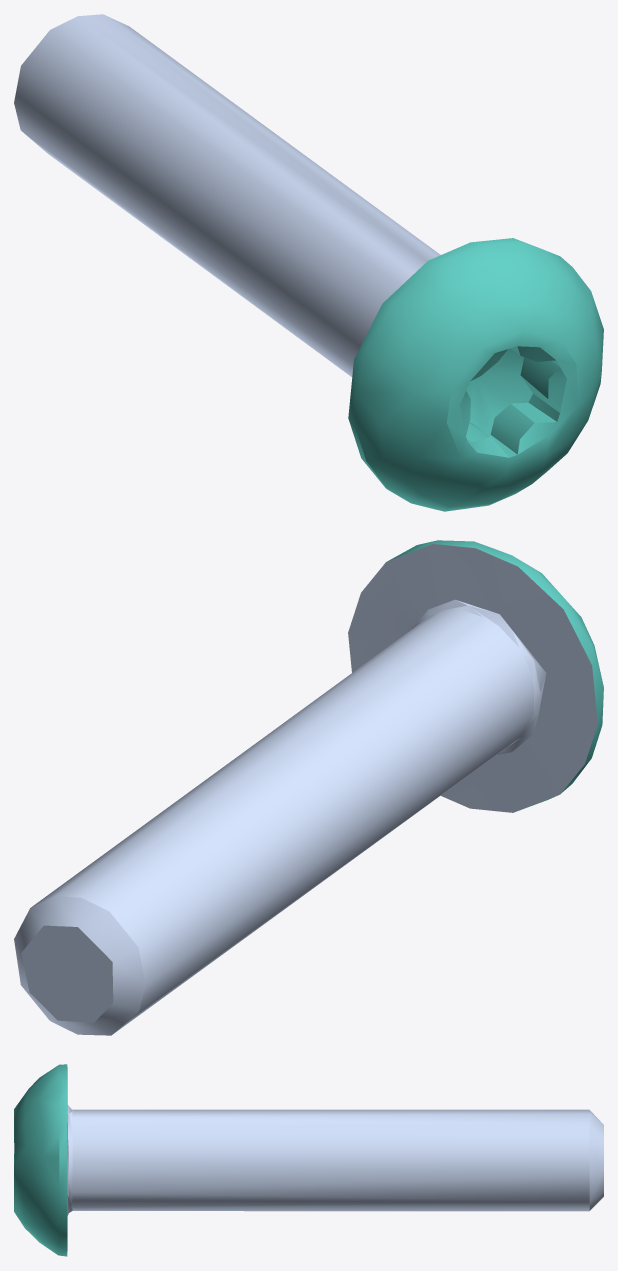
The model's file is Colored__8-32_x_7_8_Star_Drive_Screw__276-4995__001.glb.
3 views of the same model, one above another, from view 1: azimuth 30°, elevation 25°; view 2: azimuth 150°, elevation 25°; view 3: azimuth 270°, elevation 25° (orthographic). The views are drawn at different scales.
Parts seen in each view (by area): view 1: Colored #8-32 x 7_8 Star Drive Screw (276-4995).001; view 2: Colored #8-32 x 7_8 Star Drive Screw (276-4995).001; view 3: Colored #8-32 x 7_8 Star Drive Screw (276-4995).001.
Part boxes in pixels (left/top/right/bottom): Colored #8-32 x 7_8 Star Drive Screw (276-4995).001: left=14, top=14, right=603, bottom=511; Colored #8-32 x 7_8 Star Drive Screw (276-4995).001: left=14, top=540, right=603, bottom=1035; Colored #8-32 x 7_8 Star Drive Screw (276-4995).001: left=14, top=1064, right=603, bottom=1256.
Bounding box in the file's own units: 0.3123 × 0.3131 × 0.9623.
